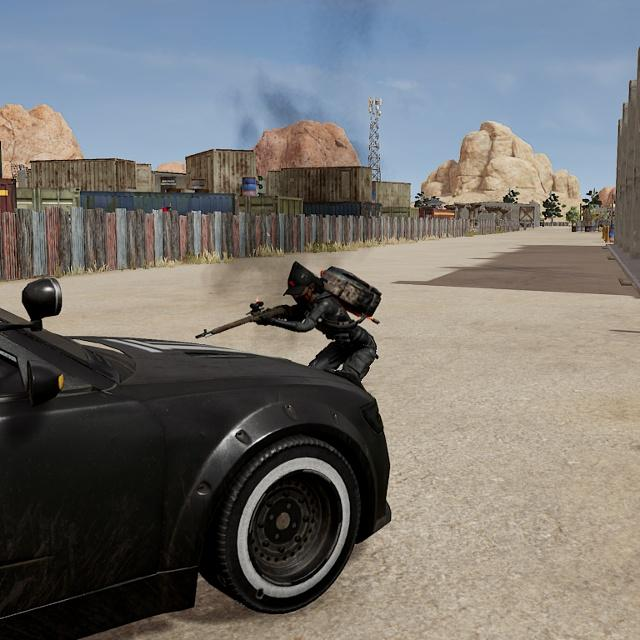head: (283, 263, 325, 308)
people: (267, 256, 389, 385)
